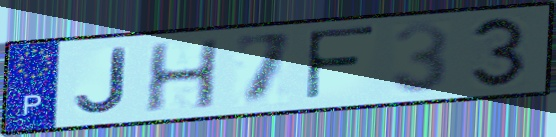3: (465, 13, 531, 93), (388, 18, 453, 98)
7: (232, 33, 294, 109)
F: (302, 24, 380, 103)
H: (141, 36, 222, 115)
J: (72, 45, 130, 117)
